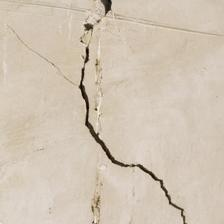Crack: (0, 30, 104, 92), (48, 11, 98, 107), (33, 23, 72, 92), (82, 47, 104, 90), (78, 93, 90, 130)
